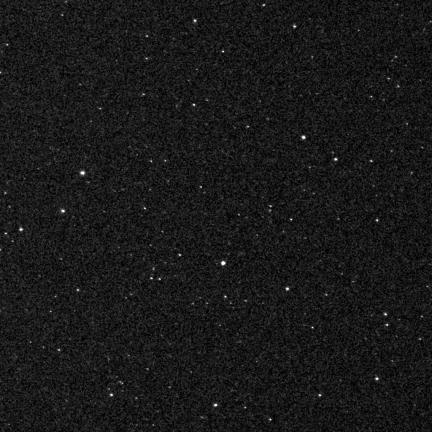blob: (221, 261, 227, 266), (80, 171, 85, 175), (302, 135, 305, 139)
